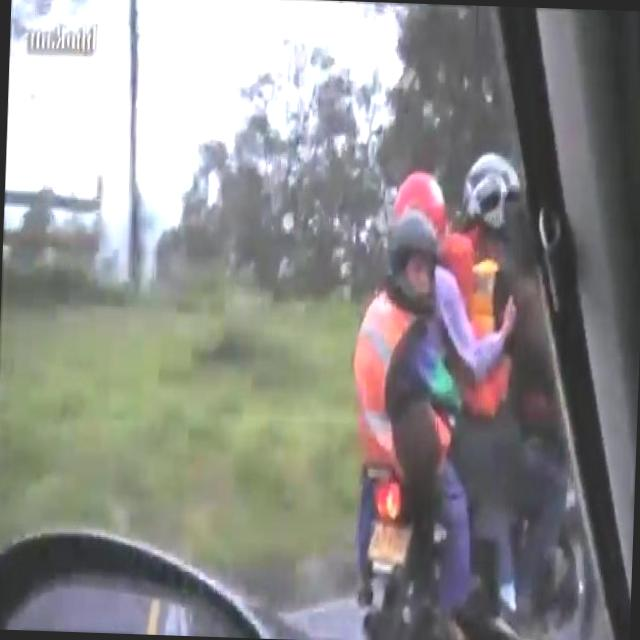motorcycle: (343, 419, 594, 640)
person: (429, 147, 548, 540), (364, 166, 472, 554), (336, 212, 452, 518)
rider_region: (341, 141, 606, 640)
